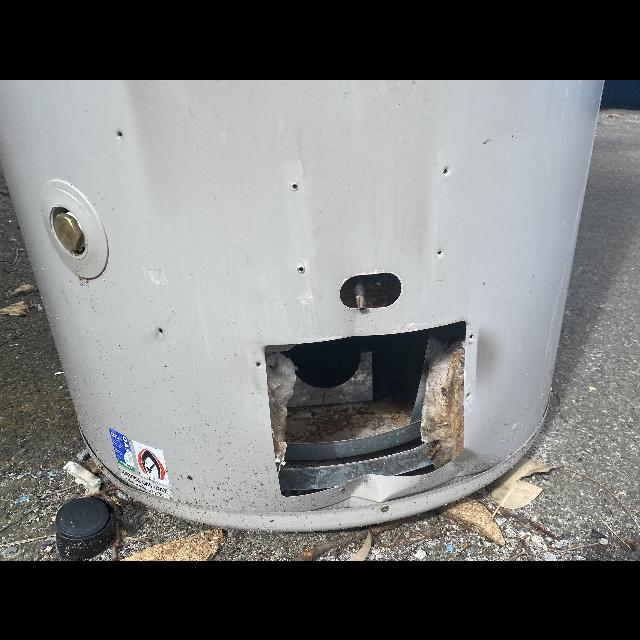Brass: (55, 212, 83, 250)
Ferrous Metal: (0, 79, 605, 532)
Galvanized Steel: (284, 356, 430, 460), (278, 443, 434, 490), (286, 350, 373, 407)
